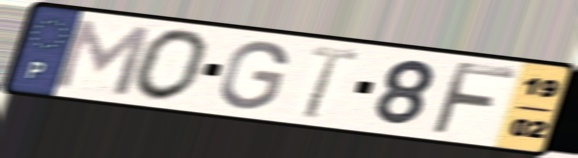8: (371, 57, 439, 129)
F: (426, 59, 520, 138)
G: (214, 39, 292, 112)
M: (52, 16, 156, 99)
O: (130, 26, 215, 104)
T: (299, 42, 363, 121)
